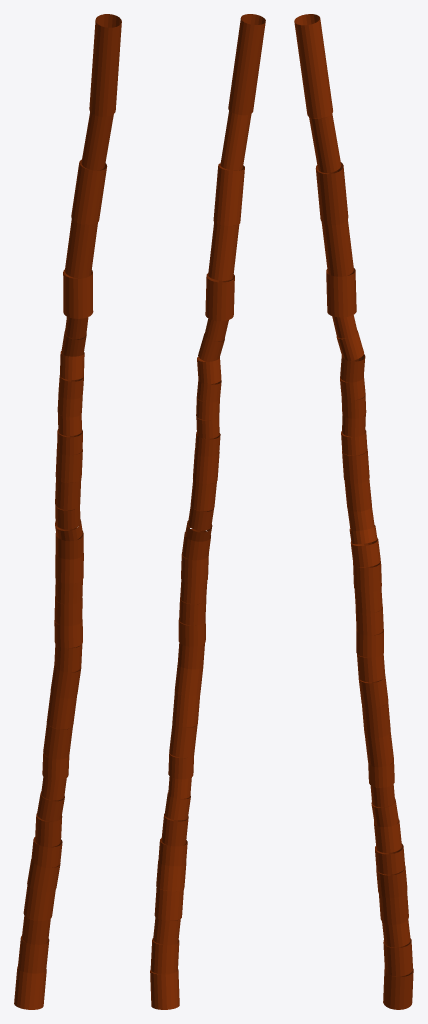
File: tree_0195.obj
3 views of the same model, side by side, from view 1: azimuth 90°, elevation 25°; view 2: azimuth 150°, elevation 25°; view 3: azimuth 330°, elevation 25° (orthographic). The views are drawn at different scales.
Parts seen in each view (by area): view 1: groupWood; view 2: groupWood; view 3: groupWood.
Boxes of the visible parts, box(x1,y1,x2,y2) form: groupWood: box(14, 14, 121, 1009); groupWood: box(150, 14, 265, 1009); groupWood: box(294, 14, 413, 1009).
Size of the model in its own units: 1.25 by 15.42 by 1.49.
